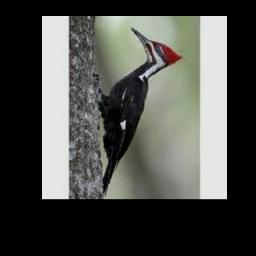Woodpecker: (98, 27, 184, 196)
